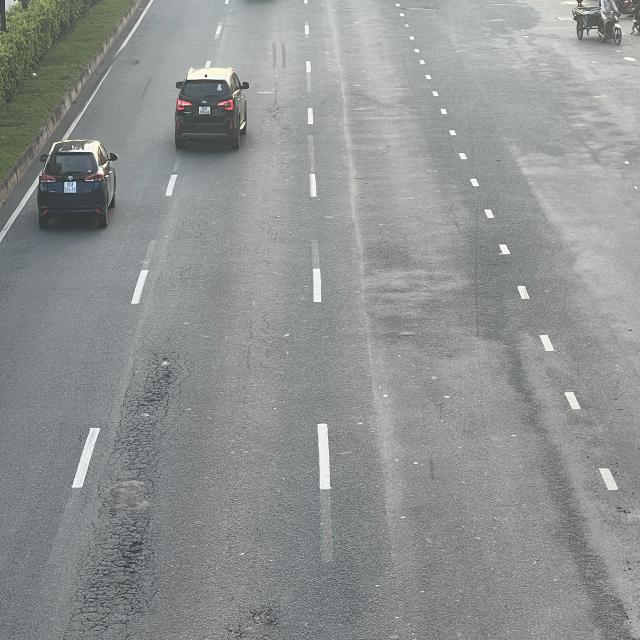car: (38, 138, 119, 228), (174, 70, 252, 153)
